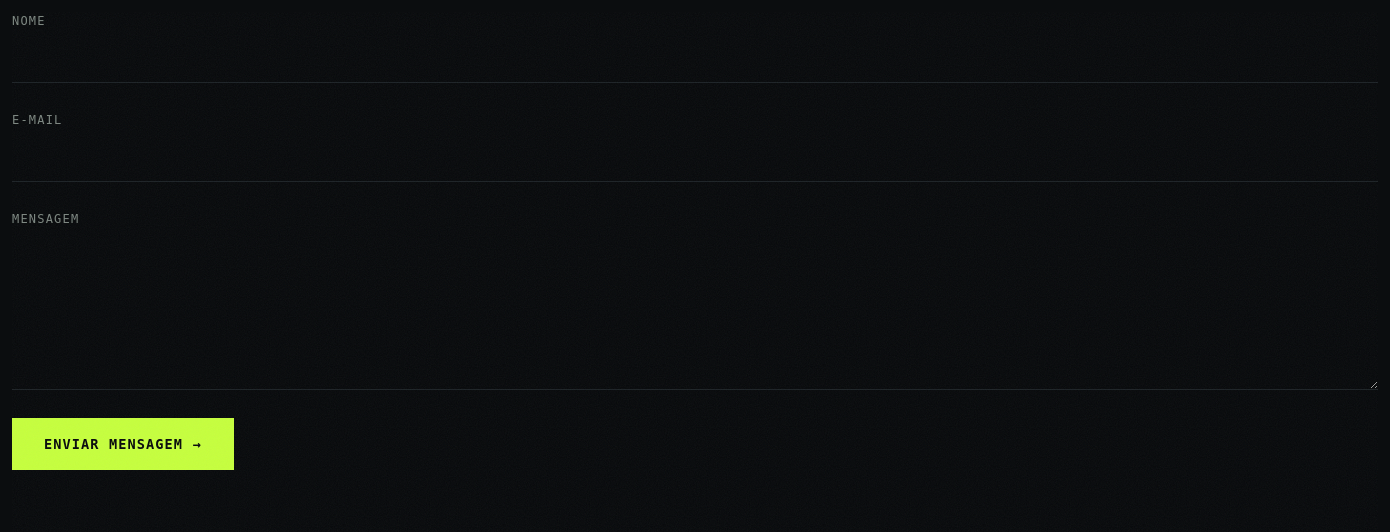
Scenario: FormularioContato › em caso de falha, avisa, mantém o texto e oferece o e-mail direto
The image size is (1390, 532).
Type "Ana Souza" into the field labelled "Nome". click: point(695, 59)
box: x1=12 y1=35 x2=1378 y2=83
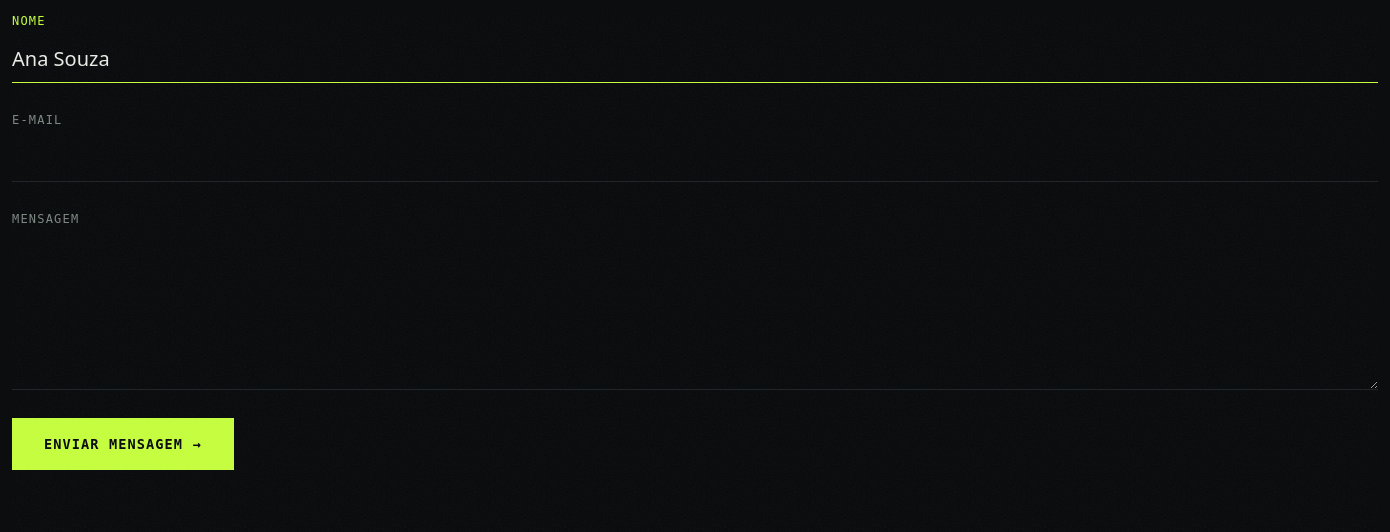
Type "ana@empresa.com" into the field labelled "E-mail". click: point(695, 158)
box: x1=12 y1=134 x2=1378 y2=182
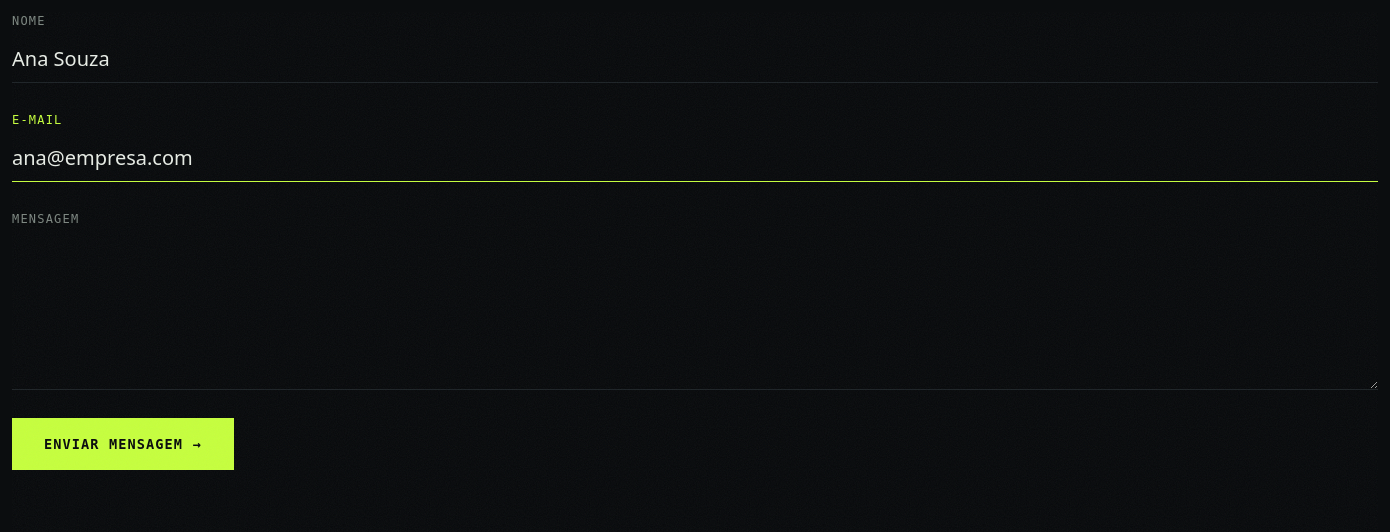
Type "Olá! Vamos conversar?" into the text box labelled "Mensagem". click: point(695, 312)
box: x1=12 y1=234 x2=1378 y2=390
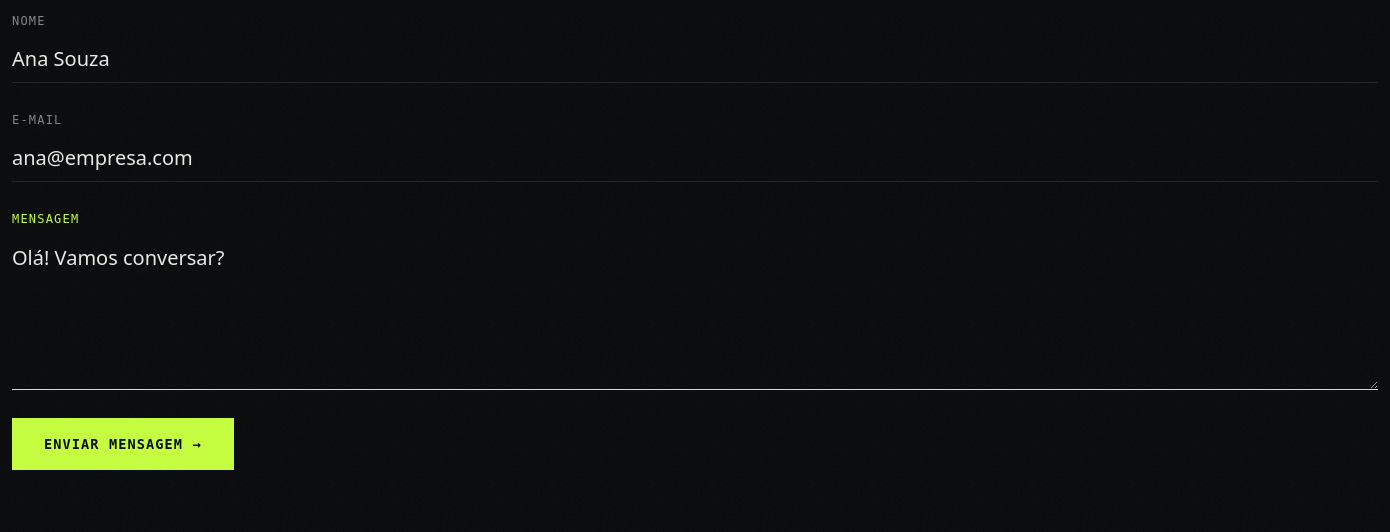
Click the button "Enviar mensagem →". click: point(123, 444)
box: x1=12 y1=418 x2=234 y2=470
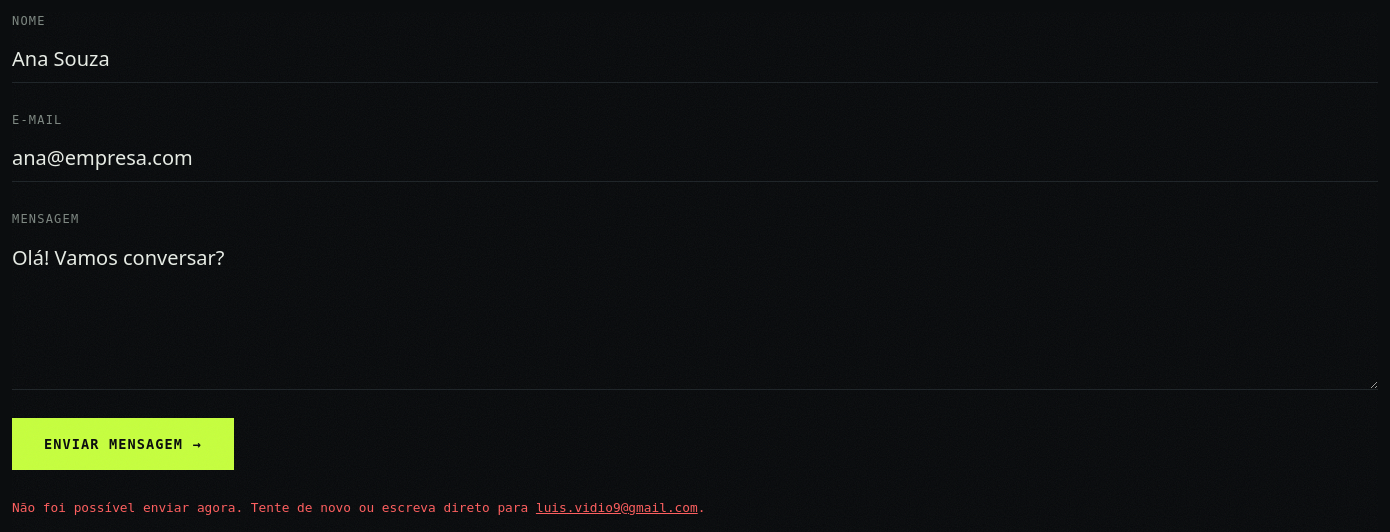
Check: the text "Não foi possível enviar" is shown, box x1=12 y1=500 x2=528 y2=515
